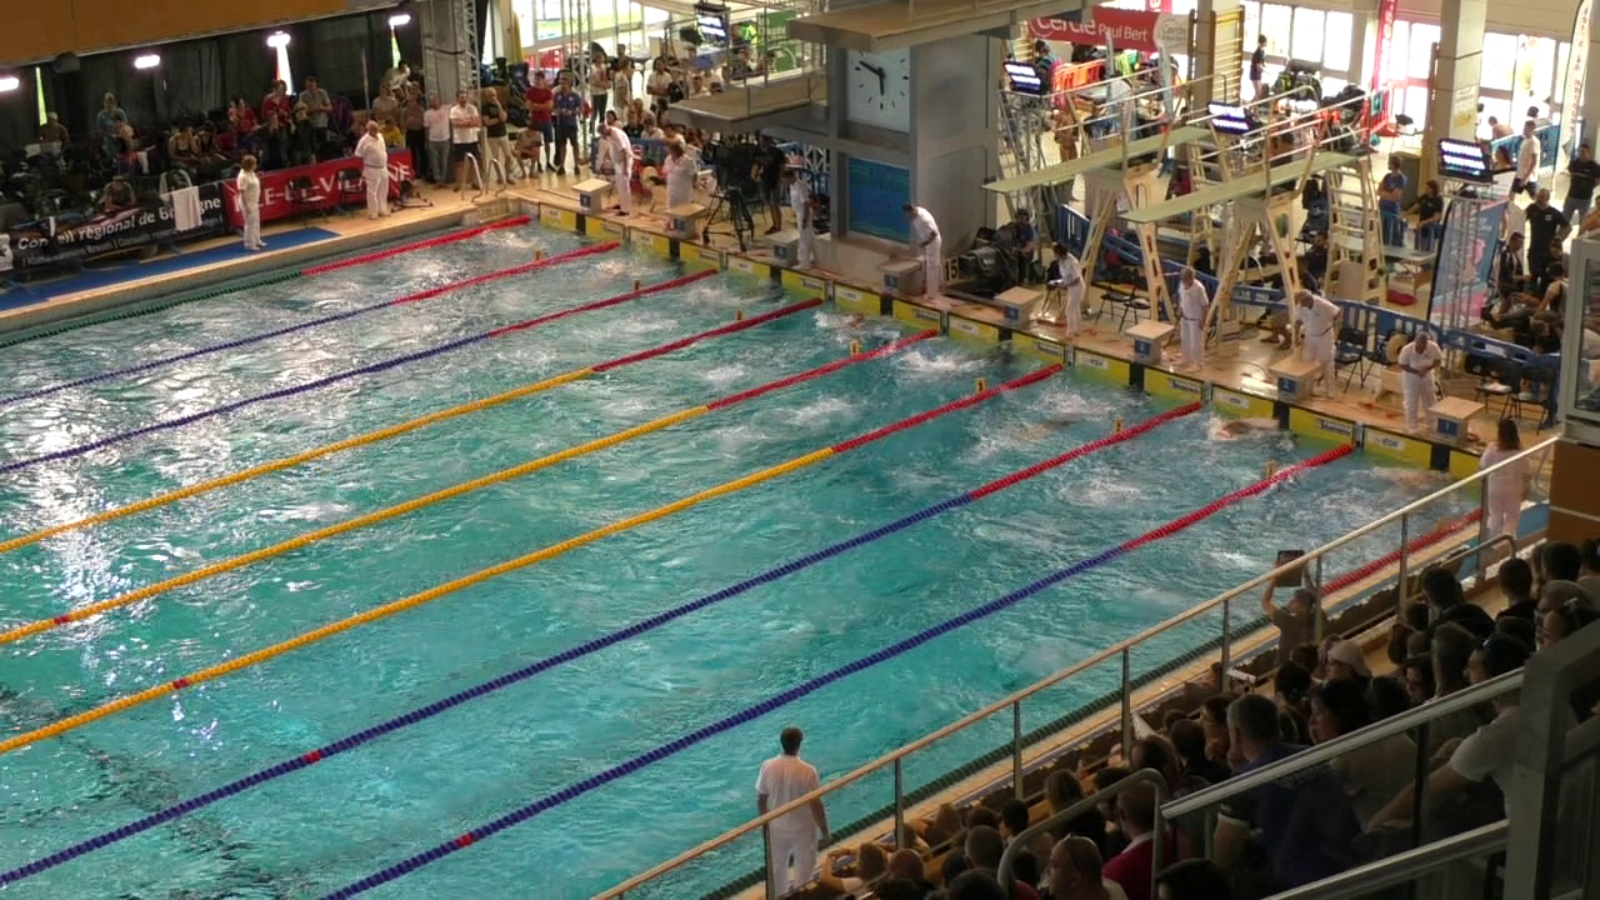swimmer: (1389, 466, 1449, 495)
swimmerw: (982, 411, 1085, 455), (566, 254, 670, 295), (937, 343, 1018, 387), (1192, 409, 1280, 446), (710, 284, 789, 316), (823, 305, 874, 356), (473, 233, 554, 257)
